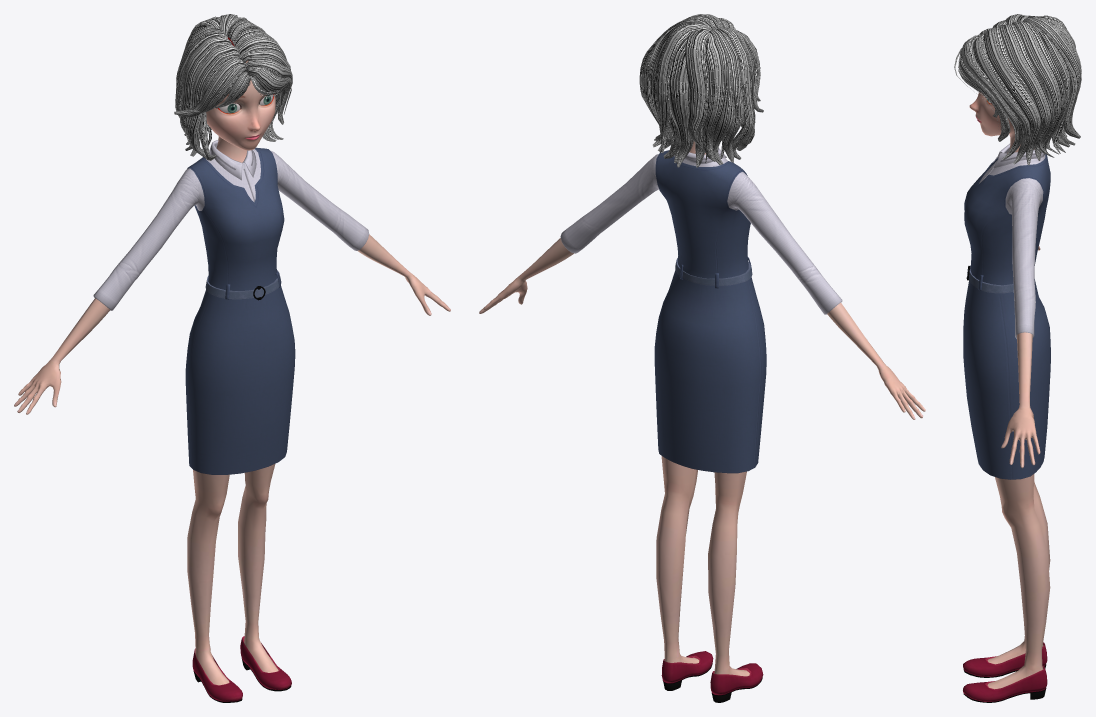
The model's file is mother3.fbx.
3 views of the same model, side by side, from view 1: azimuth 30°, elevation 25°; view 2: azimuth 150°, elevation 25°; view 3: azimuth 270°, elevation 25° (orthographic). The views are drawn at different scales.
Visible parts, largest first — view 1: Outfit_Default, Body, Hair_Default, Head; view 2: Outfit_Default, Hair_Default, Body; view 3: Outfit_Default, Hair_Default, Body, Head.
Boxes of the visible parts, <box> form: Outfit_Default: <box>93,140,369,702</box>; Body: <box>14,234,450,685</box>; Hair_Default: <box>174,14,292,160</box>; Head: <box>206,37,275,162</box>; Outfit_Default: <box>560,148,842,702</box>; Hair_Default: <box>639,14,763,167</box>; Body: <box>479,238,925,676</box>; Outfit_Default: <box>963,143,1050,702</box>; Hair_Default: <box>954,14,1081,165</box>; Body: <box>987,151,1050,689</box>; Head: <box>969,91,1034,153</box>.
Bounding box in the file's own units: 292 × 425 × 73.79.
